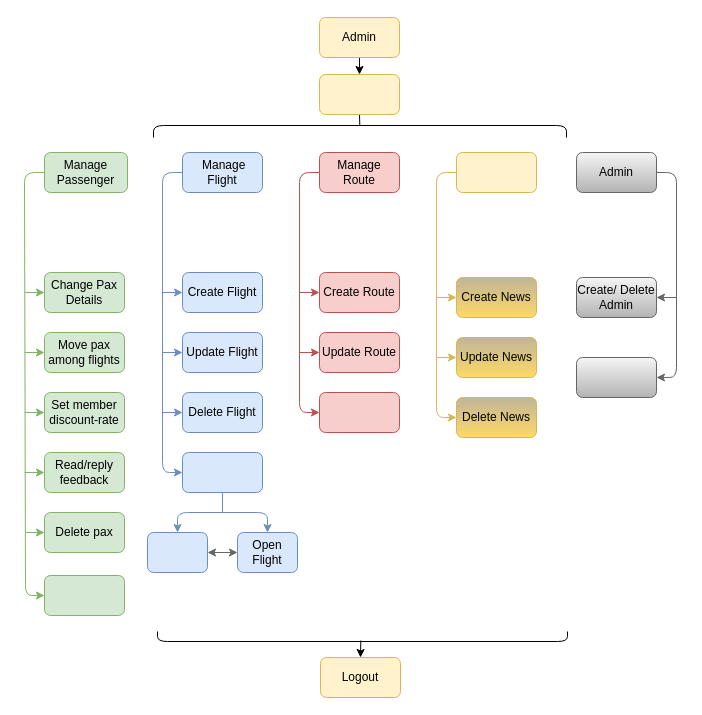
Some shapes in this 702 by 715 pixel diagram are drawn without their labels. Here are the shapes that lost their labels. From the top down, the centre of each, then its label:
(359,94): Login
(496,172): Manage News
(616,377): Set Roles & Permissions
(359,412): Delete Route
(222,472): Operate Flight
(177,552): Close Flight
(84,595): View Revenue
